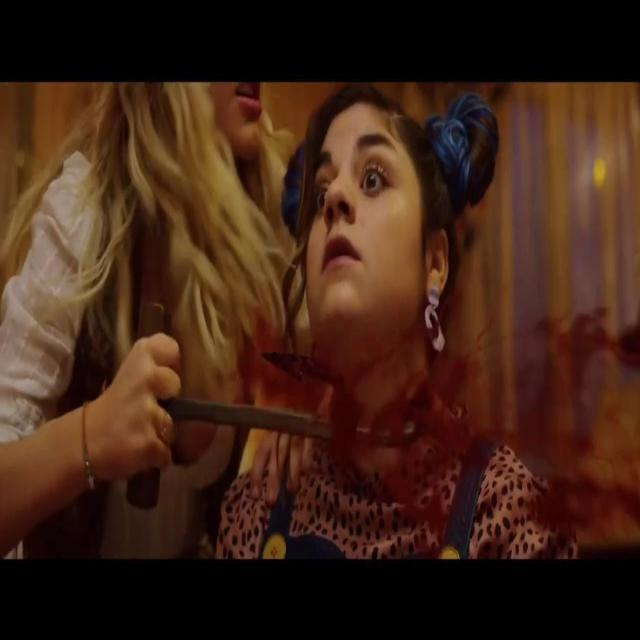flood: (389, 307, 628, 489)
